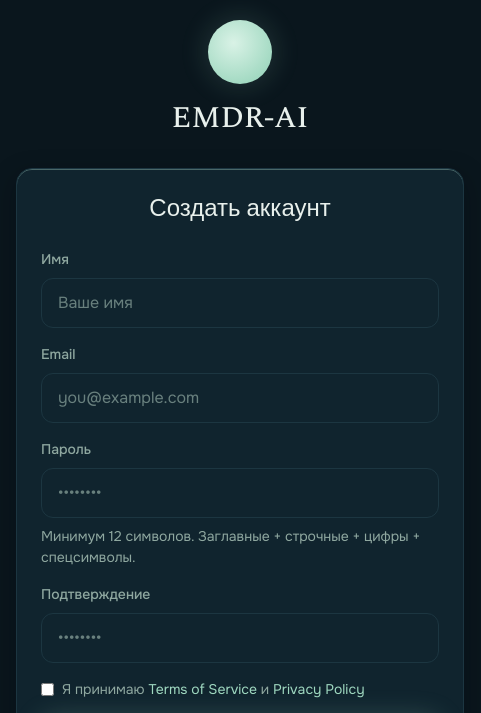
Test: RegisterPage (#150) › password strength indicator › "Отличный" для длинного пароля со всеми классами символов
The image size is (481, 713).
Type "LongPass#word2026" into the password field labelled "Пароль" at point(240, 493), box [41,468,439,518]
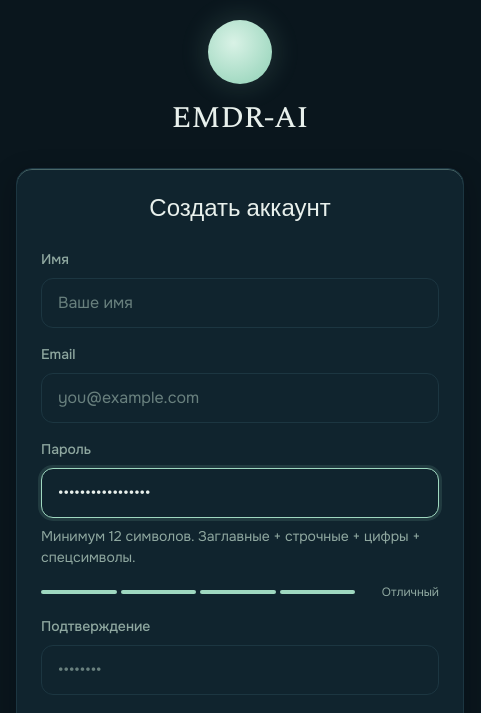
Expected: the text "Отличный" is shown, [382,584,439,600]
